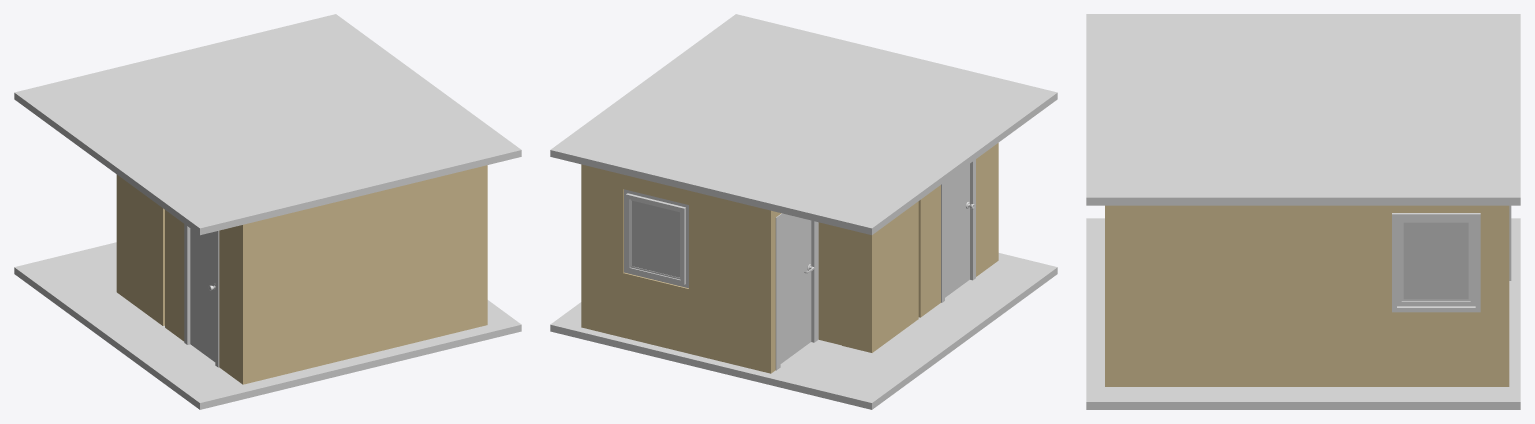
File: FloorPlan416.fbx
3 views of the same model, side by side, from view 1: azimuth 30°, elevation 25°; view 2: azimuth 150°, elevation 25°; view 3: azimuth 270°, elevation 25° (orthographic). The views are drawn at different scales.
Parts seen in each view (by area): view 1: Cube.1900, Room.011, Cube.1901, Door.012, DoorFrame.012; view 2: Cube.1900, Room.011, Cube.1901, Window.018, Door.011, Door.012, DoorFrame.011, DoorFrame.012; view 3: Cube.1900, Room.011, Cube.1901, Window.017.
Part boxes in pixels (<box>): Cube.1900: <box>14,14,521,235</box>; Room.011: <box>116,165,487,384</box>; Cube.1901: <box>14,242,521,409</box>; Door.012: <box>190,228,215,361</box>; DoorFrame.012: <box>184,224,219,367</box>; Cube.1900: <box>550,14,1057,235</box>; Room.011: <box>581,143,998,373</box>; Cube.1901: <box>550,253,1057,409</box>; Window.018: <box>624,189,688,288</box>; Door.011: <box>780,215,811,363</box>; Door.012: <box>945,164,969,297</box>; DoorFrame.011: <box>775,213,818,370</box>; DoorFrame.012: <box>941,159,975,302</box>; Cube.1900: <box>1086,14,1520,205</box>; Room.011: <box>1105,205,1509,386</box>; Cube.1901: <box>1086,218,1520,409</box>; Window.017: <box>1392,213,1480,312</box>.
Size of the model in its own units: 441 by 238 by 441.
